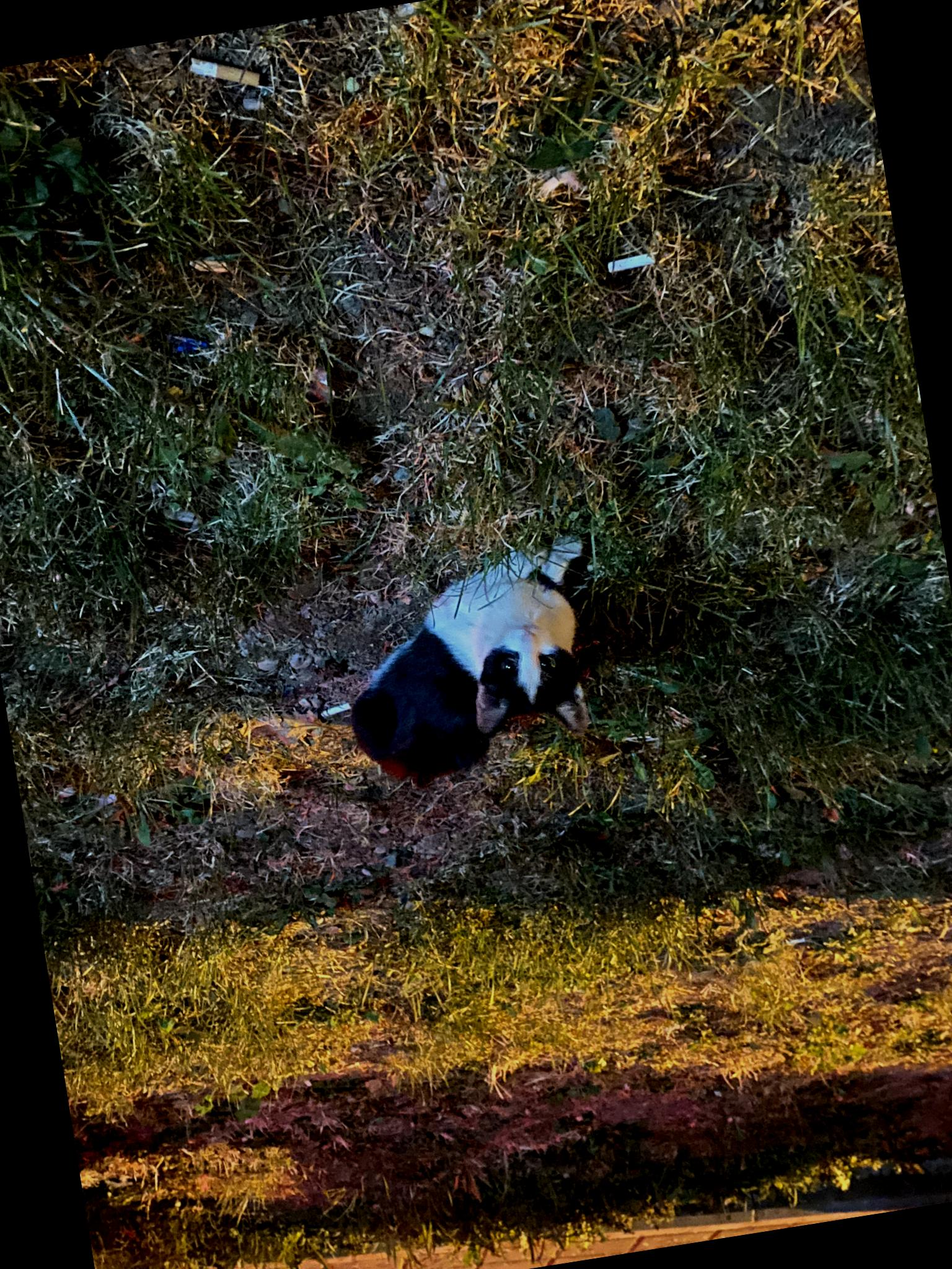macka: (327, 528, 622, 800)
